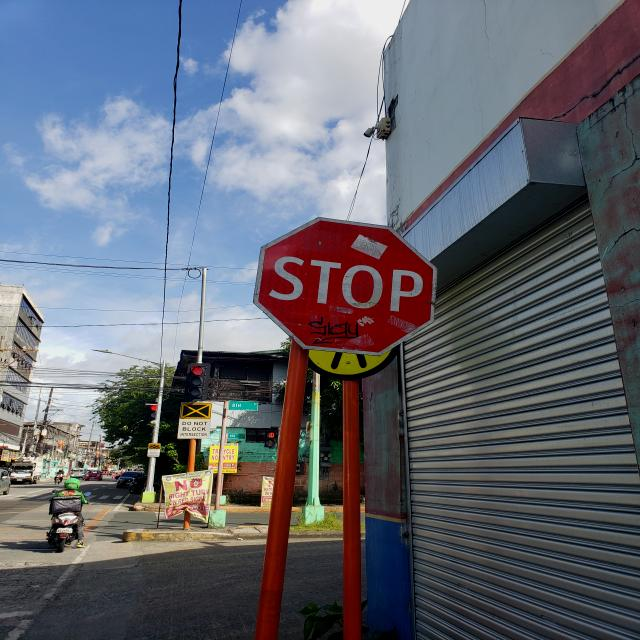stop-sign: (253, 216, 438, 356)
